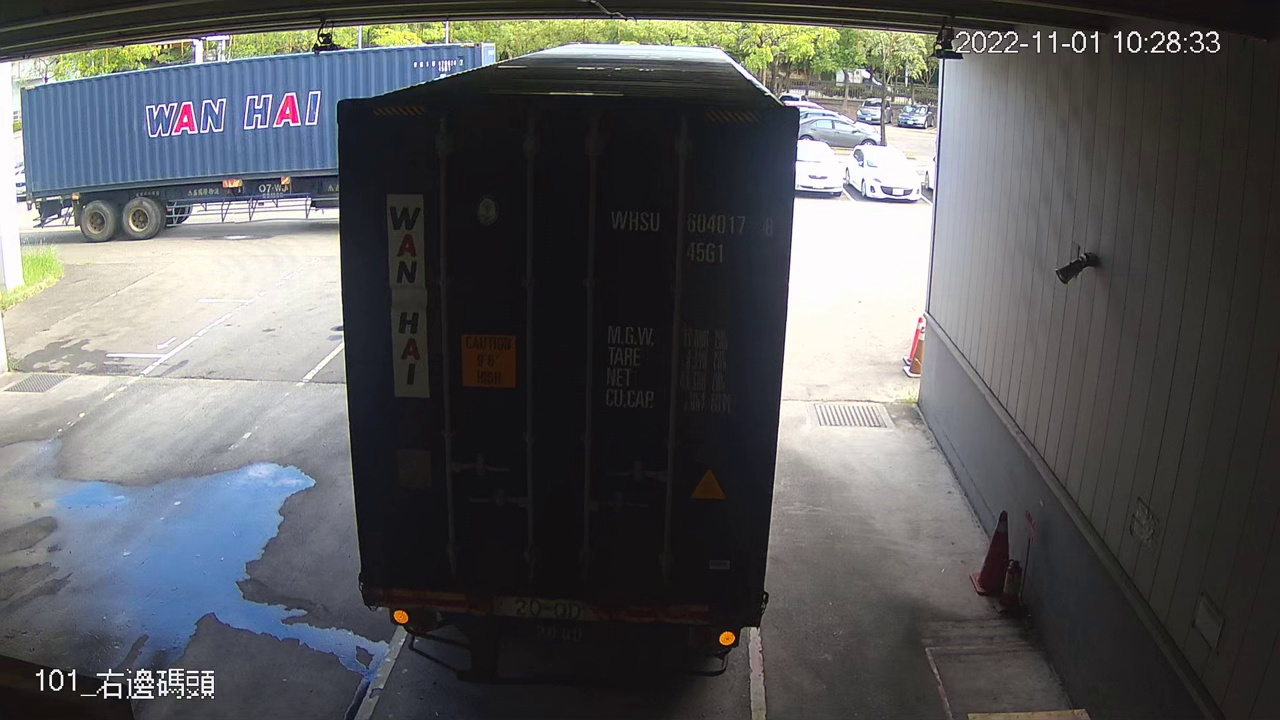container: (602, 200, 785, 270)
